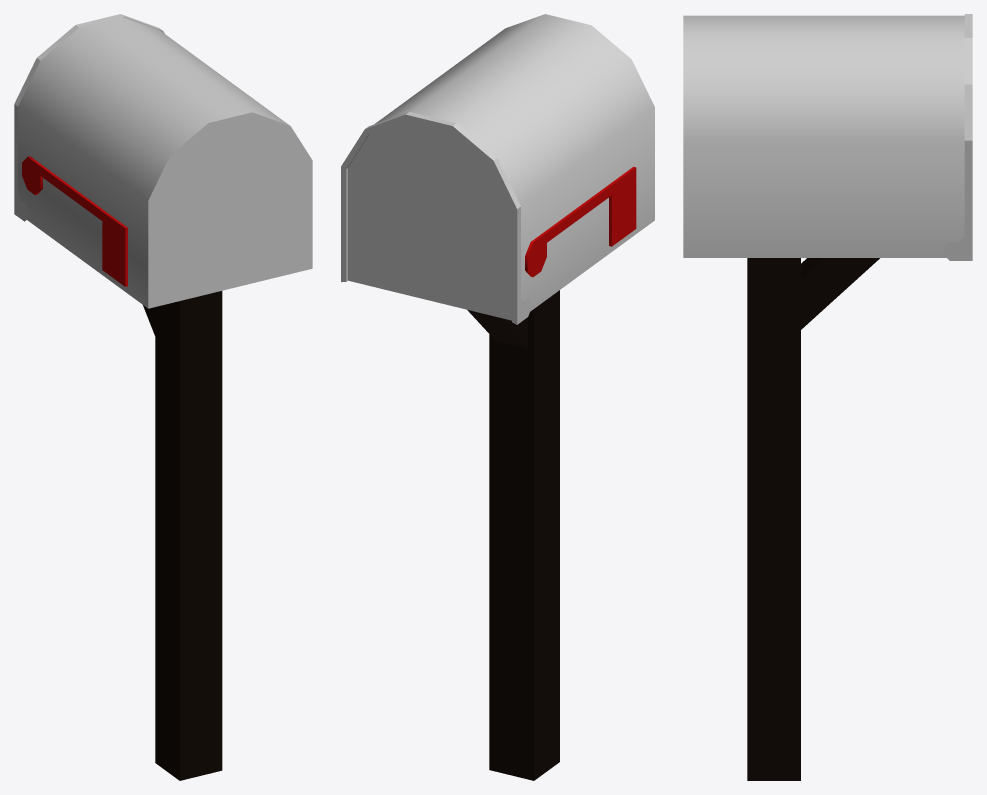
Rendered from Prop_Mailbox_02.fbx.
3 views of the same model, side by side, from view 1: azimuth 30°, elevation 25°; view 2: azimuth 150°, elevation 25°; view 3: azimuth 270°, elevation 25° (orthographic). The views are drawn at different scales.
Visible parts, largest first — view 1: Prop_Mailbox_02; view 2: Prop_Mailbox_02; view 3: Prop_Mailbox_02.
Part boxes in pixels (<box>): Prop_Mailbox_02: <box>14,14,312,780</box>; Prop_Mailbox_02: <box>341,14,654,780</box>; Prop_Mailbox_02: <box>683,14,972,780</box>.
Size of the model in its own units: 15.6 by 60.18 by 21.23.
